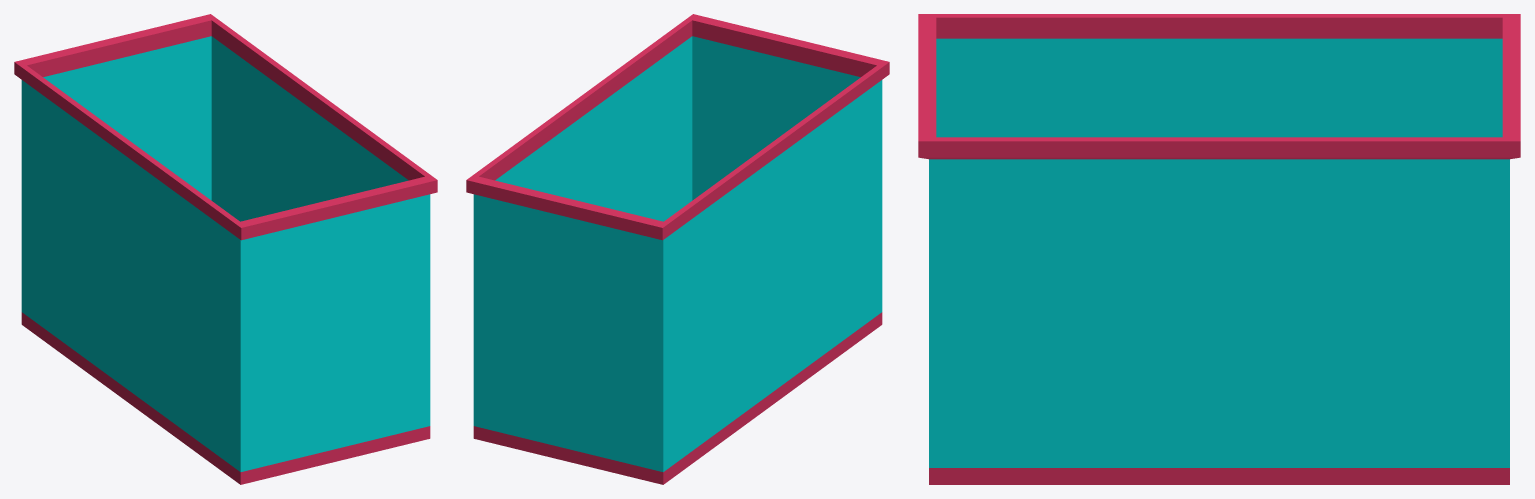
The model's file is fish_tank.fbx.
The picture shows the model from 3 angles, left to right: view 1: azimuth 30°, elevation 25°; view 2: azimuth 150°, elevation 25°; view 3: azimuth 270°, elevation 25°; orthographic projection. The views are drawn at different scales.
Visible parts, largest first — view 1: pCube1; view 2: pCube1; view 3: pCube1.
Part boxes in pixels (x1,y1,x2,y2): pCube1: (14, 14, 437, 484); pCube1: (466, 14, 889, 484); pCube1: (918, 14, 1520, 484).
Size of the model in its own units: 6.22 by 7.89 by 12.44.
